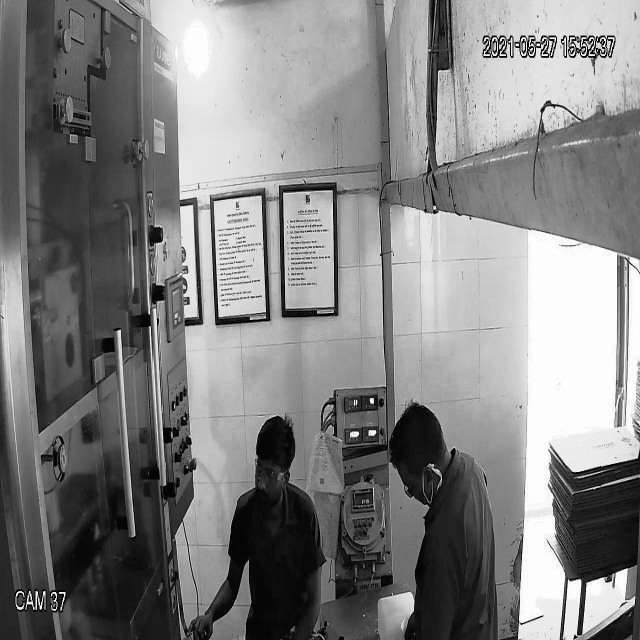Gafas: (251, 456, 294, 492)
